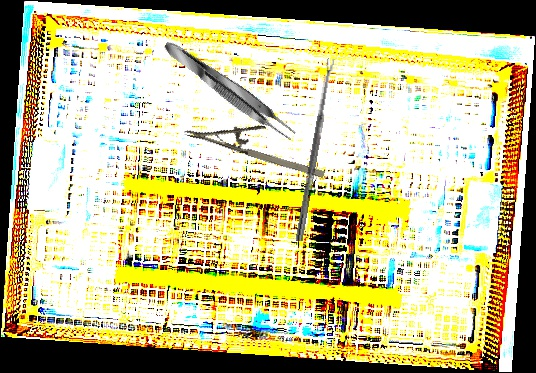Needle Holder: (183, 102, 333, 182)
Surgical Spoon: (295, 58, 336, 242)
Tissue Forceps: (159, 34, 300, 146)
